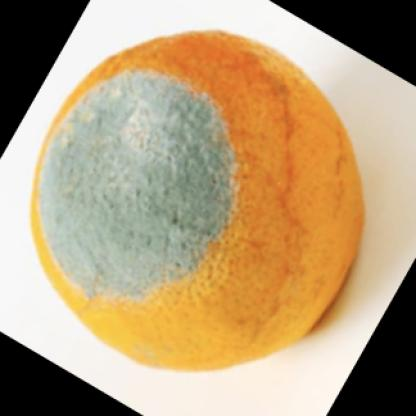rotten: (33, 31, 366, 374)
